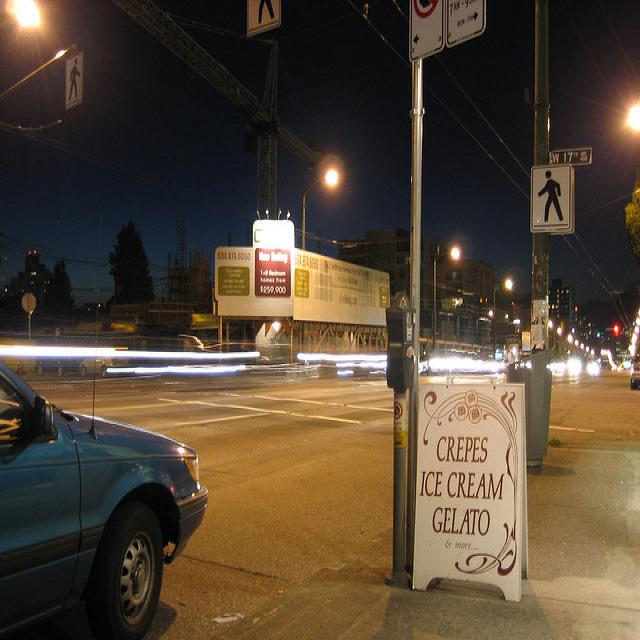Vehicle: (0, 361, 206, 628), (630, 355, 640, 389), (183, 336, 204, 352)
